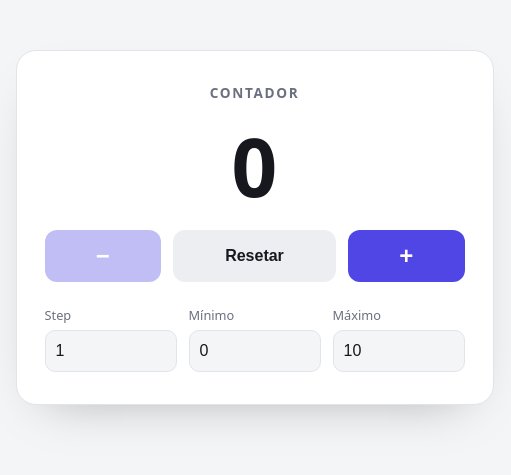
Counter › increments by step without passing max
Clear the number field labelled "Step" at [110, 350], box [44,330,176,372]
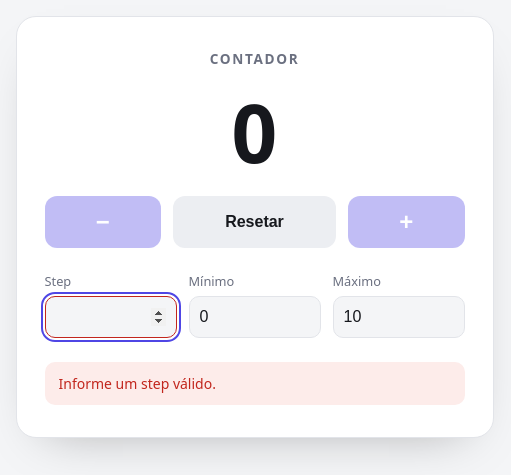
Type "4" into the number field labelled "Step" at [110, 317], box [44,296,176,338]
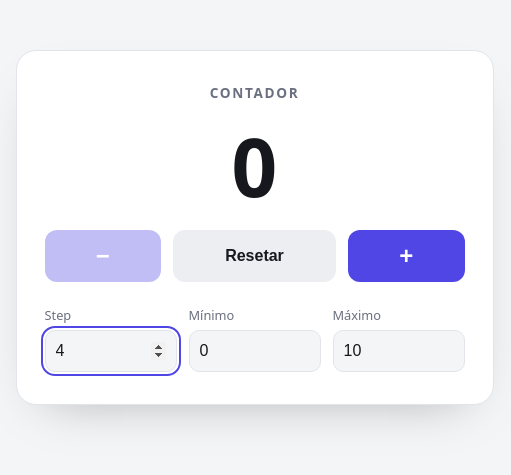
Click the button named "Incrementar" at [406, 256], box [348,230,464,282]
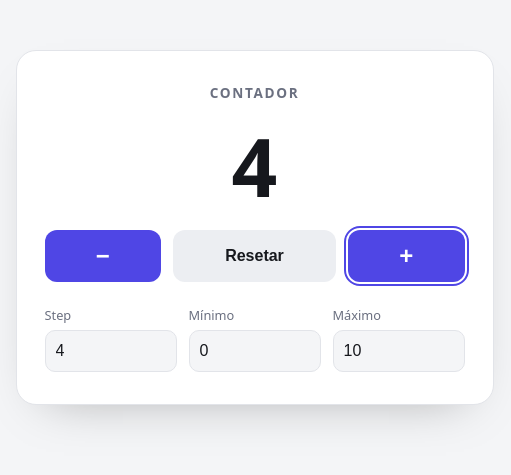
Click the button named "Incrementar" at [406, 256], box [348,230,464,282]
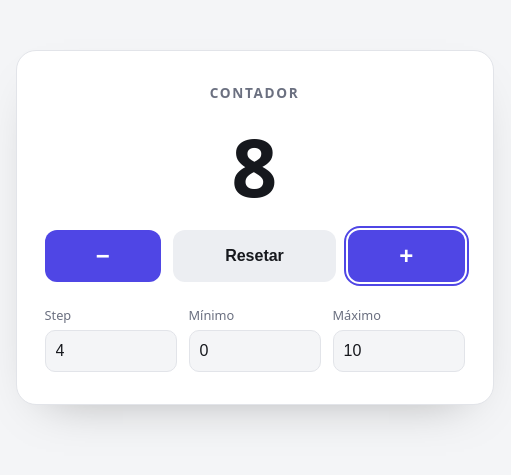
Check: the text named "Valor atual" reads "8", box [232,110,277,220]
Click the button named "Incrementar" at [406, 256], box [348,230,464,282]
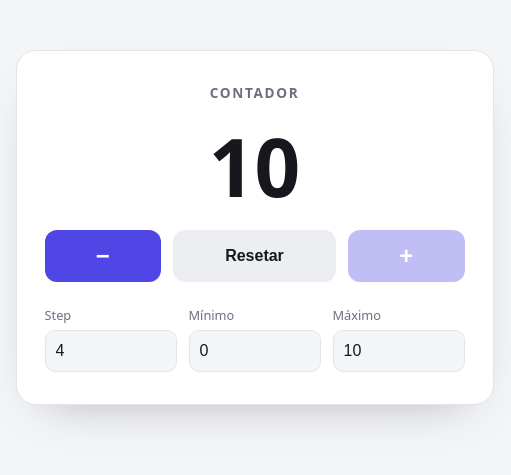
Check: the text named "Valor atual" reads "10", box [209,110,300,220]
Check: the button named "Incrementar" is disabled, box [348,230,464,282]
